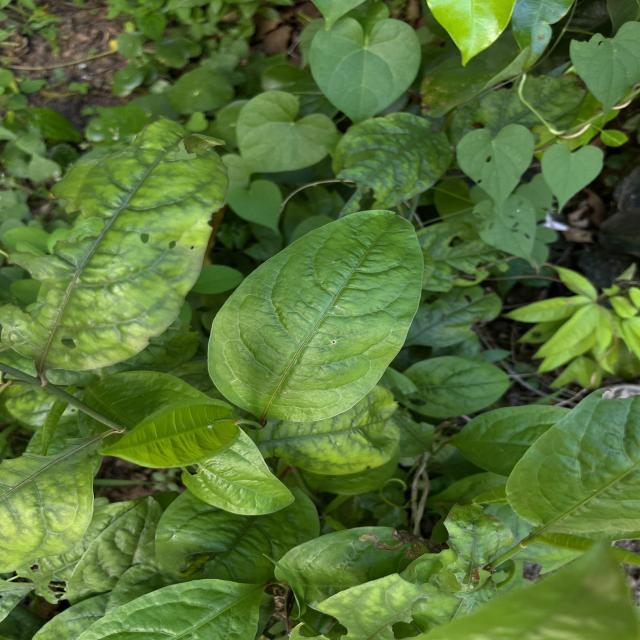Plumbago indica: (204, 206, 428, 424), (328, 110, 453, 208), (98, 393, 244, 468), (402, 352, 514, 420)
